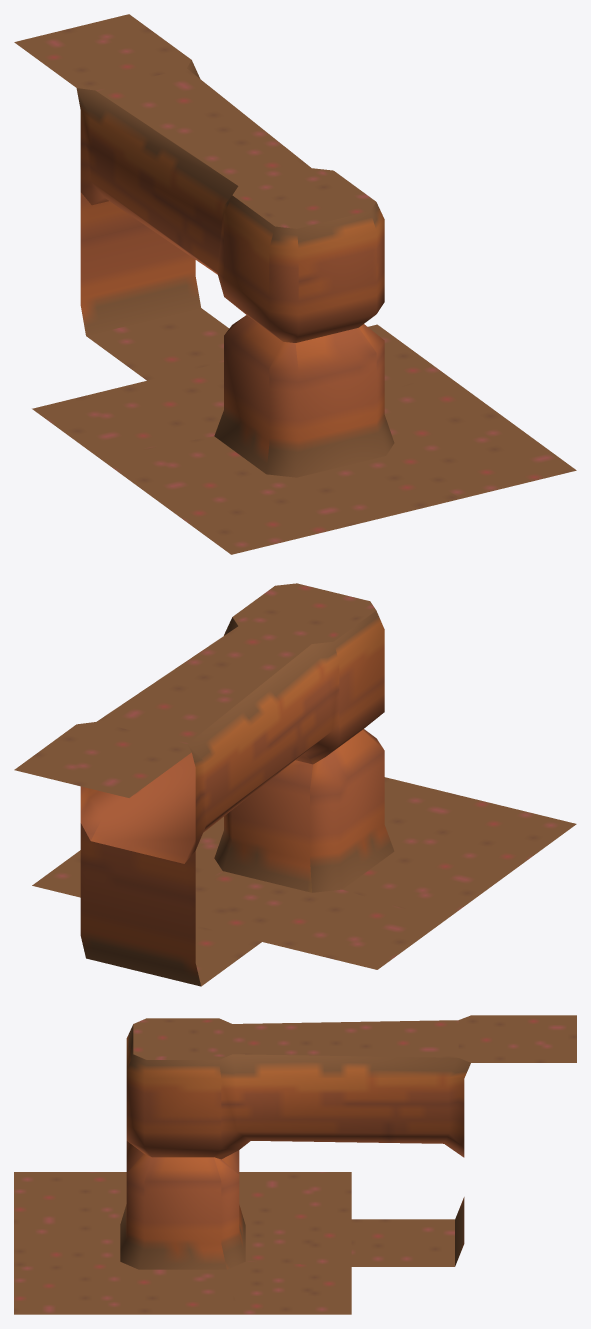
Rendered from canion_step_arch_v02.fbx.
3 views of the same model, one above another, from view 1: azimuth 30°, elevation 25°; view 2: azimuth 150°, elevation 25°; view 3: azimuth 270°, elevation 25° (orthographic). The views are drawn at different scales.
Visible parts, largest first — view 1: canion_step_arch_v02; view 2: canion_step_arch_v02; view 3: canion_step_arch_v02.
Part boxes in pixels (x1,y1,x2,y2): canion_step_arch_v02: (14, 14, 576, 554); canion_step_arch_v02: (14, 583, 576, 986); canion_step_arch_v02: (14, 1015, 576, 1314).
Bounding box in the file's own units: 600 × 400 × 1000.
